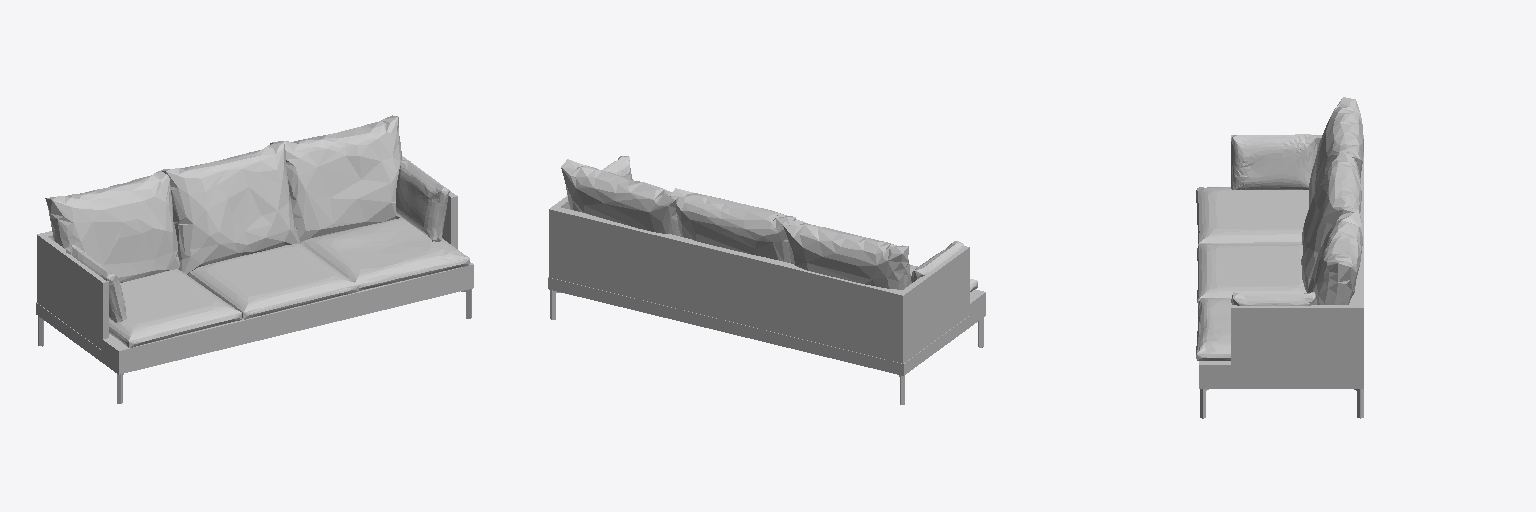
The model's file is Sofa.obj.
The picture shows the model from 3 angles: view 1: azimuth 30°, elevation 25°; view 2: azimuth 150°, elevation 25°; view 3: azimuth 270°, elevation 25°; orthographic projection.
Parts seen in each view (by area): view 1: Sofa Cushin 2.low, Sofa Cushin 3 low, Sofa Cushin  low, Bottom Sofa Cushin 2.001, Bottom Sofa Cushin 3.001, Bottom Sofa Cushin.001, Sofa Main Frame low, Sofa Bottom low, Sofa Middle low, Side Sofa Cushin 2 low, Side Sofa Cushin low, Sofa Legs low; view 2: Sofa Main Frame low, Sofa Cushin  low, Sofa Cushin 2.low, Sofa Bottom low, Sofa Cushin 3 low, Side Sofa Cushin low; view 3: Sofa Main Frame low, Bottom Sofa Cushin.001, Bottom Sofa Cushin 2.001, Side Sofa Cushin low, Sofa Cushin 2.low, Sofa Cushin 3 low, Sofa Cushin  low, Bottom Sofa Cushin 3.001, Sofa Bottom low, Side Sofa Cushin 2 low, Sofa Middle low.
Part boxes in pixels (left/top/right/bottom): Sofa Cushin 2.low: left=161, top=141, right=300, bottom=274; Sofa Cushin 3 low: left=270, top=115, right=401, bottom=242; Sofa Cushin  low: left=45, top=169, right=179, bottom=282; Bottom Sofa Cushin 2.001: left=188, top=243, right=358, bottom=319; Bottom Sofa Cushin 3.001: left=301, top=218, right=469, bottom=290; Bottom Sofa Cushin.001: left=109, top=269, right=241, bottom=347; Sofa Main Frame low: left=37, top=156, right=457, bottom=349; Sofa Bottom low: left=36, top=277, right=473, bottom=374; Sofa Middle low: left=102, top=262, right=473, bottom=362; Side Sofa Cushin 2 low: left=396, top=160, right=449, bottom=241; Side Sofa Cushin low: left=65, top=245, right=126, bottom=322; Sofa Legs low: left=38, top=289, right=471, bottom=403; Sofa Main Frame low: left=549, top=161, right=969, bottom=363; Sofa Cushin  low: left=783, top=219, right=911, bottom=289; Sofa Cushin 2.low: left=670, top=188, right=795, bottom=262; Sofa Bottom low: left=548, top=277, right=985, bottom=375; Sofa Cushin 3 low: left=561, top=159, right=680, bottom=236; Side Sofa Cushin low: left=911, top=241, right=963, bottom=282; Sofa Main Frame low: left=1231, top=135, right=1363, bottom=376; Bottom Sofa Cushin.001: left=1196, top=187, right=1308, bottom=243; Bottom Sofa Cushin 2.001: left=1197, top=244, right=1306, bottom=304; Side Sofa Cushin low: left=1231, top=134, right=1316, bottom=189; Sofa Cushin 2.low: left=1301, top=151, right=1361, bottom=291; Sofa Cushin 3 low: left=1307, top=209, right=1362, bottom=304; Sofa Cushin  low: left=1308, top=97, right=1363, bottom=206; Bottom Sofa Cushin 3.001: left=1196, top=298, right=1231, bottom=360; Sofa Bottom low: left=1199, top=377, right=1363, bottom=388; Side Sofa Cushin 2 low: left=1231, top=292, right=1316, bottom=305; Sofa Middle low: left=1199, top=295, right=1353, bottom=376.
Bounding box in the file's own units: 224 × 91.97 × 91.96.